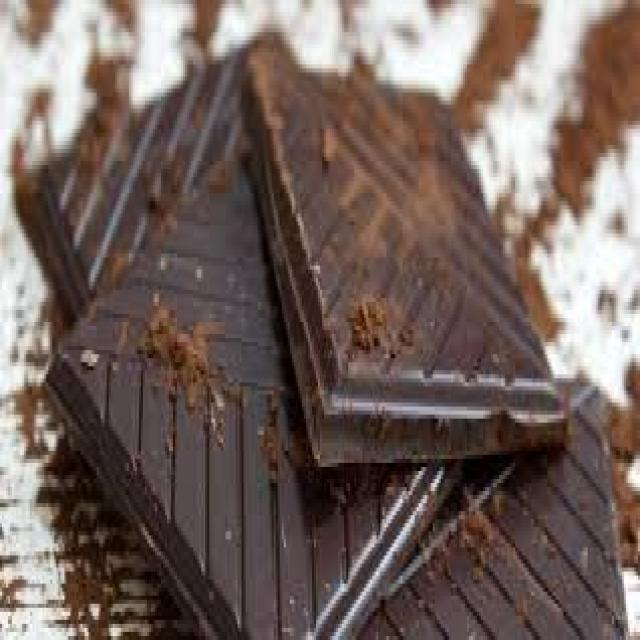Chocolate: (12, 24, 632, 640)
